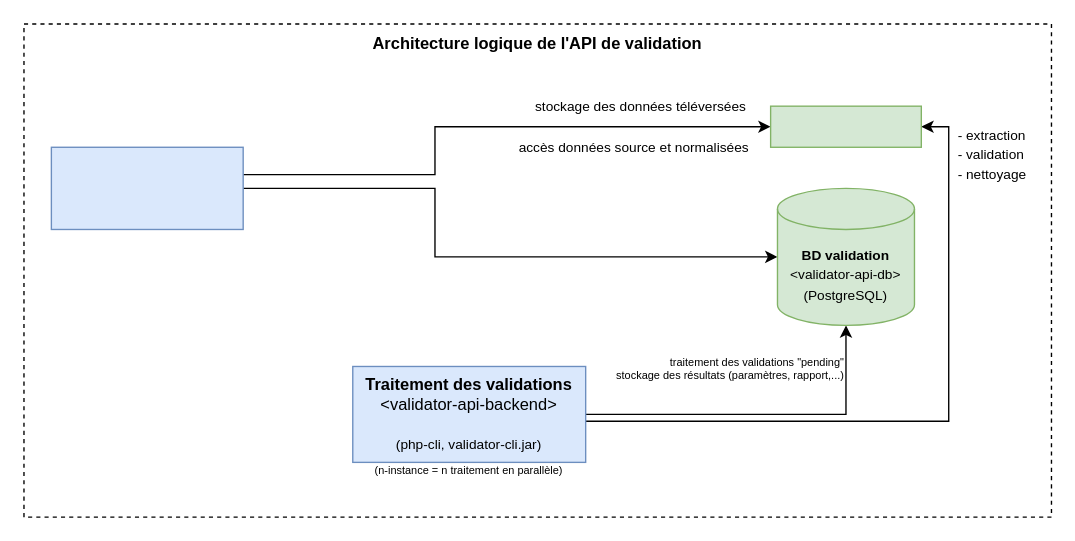
This 1075x541 diagram has some shape labels left out. Each missing label, with the box of its shape:
API validation <validator-api-front>: (50, 146, 243, 229)
Filer validation: (769, 105, 921, 147)
